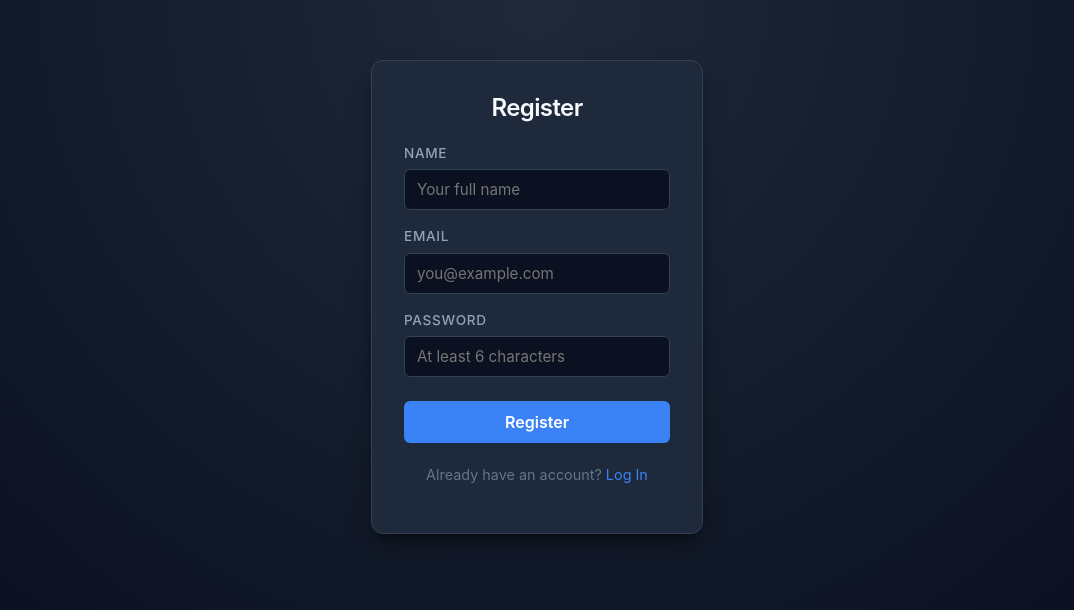
Test: RegisterPage › a successful register shows Account created. Please log in.
// Fill in valid registration details and submit
Type "Alice" into the field labelled "Name" at [537, 190], box [404, 169, 670, 210]
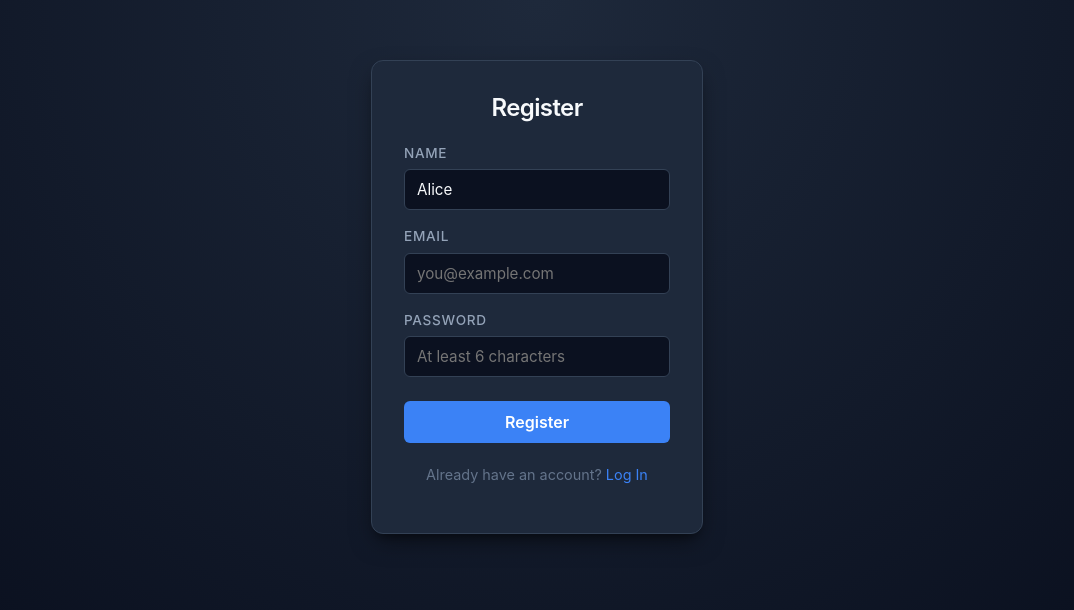
Type "alice@example.com" into the field labelled "Email" at [537, 273], box [404, 253, 670, 294]
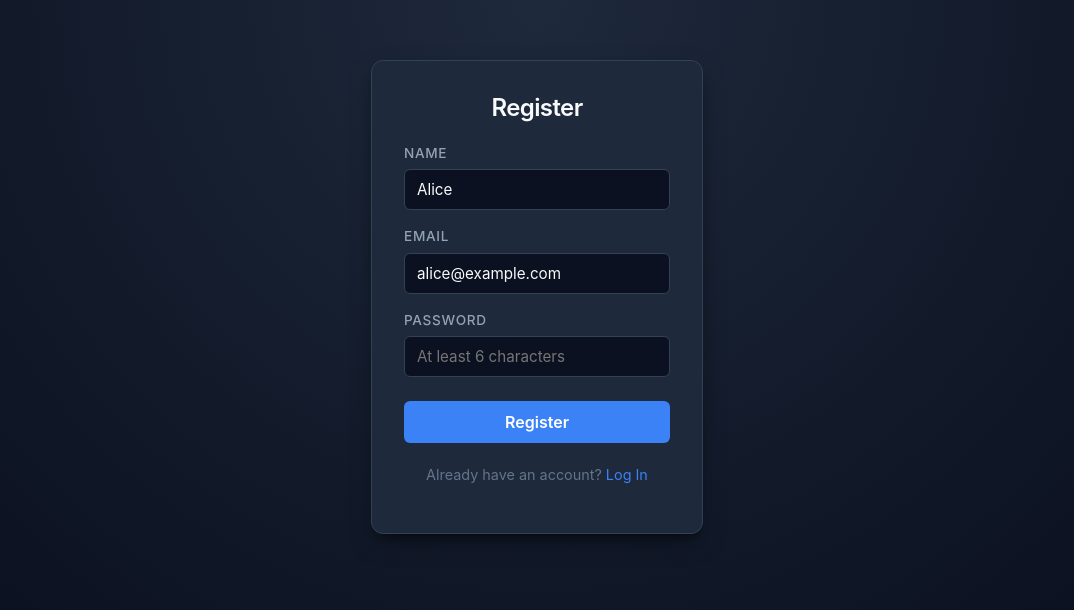
Type "secret123" into the password field labelled "Password" at [537, 357], box [404, 336, 670, 377]
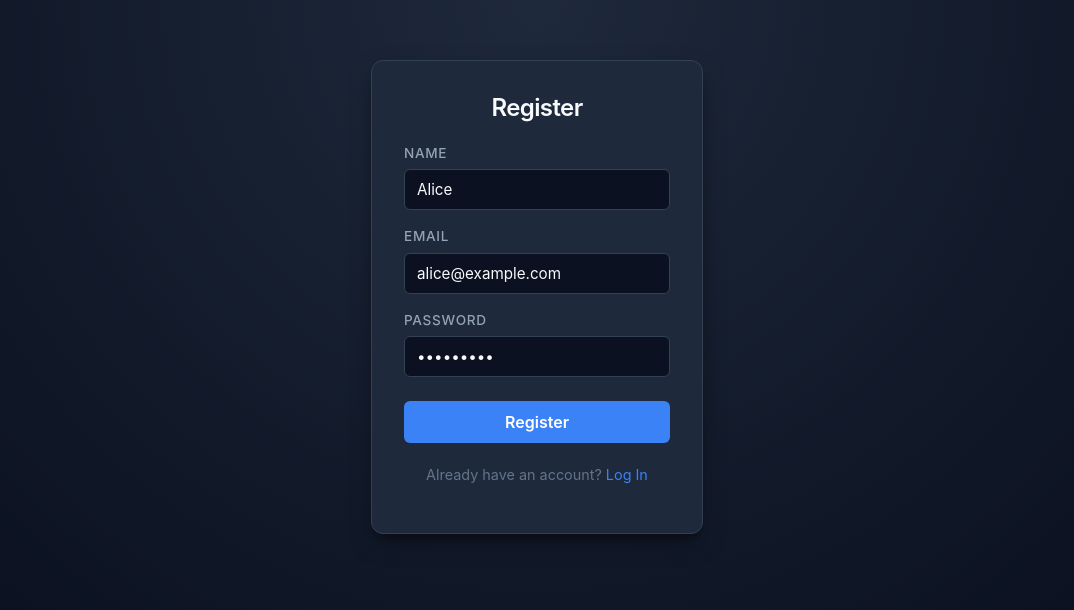
Click the button "Register" at [537, 422], box [404, 401, 670, 443]
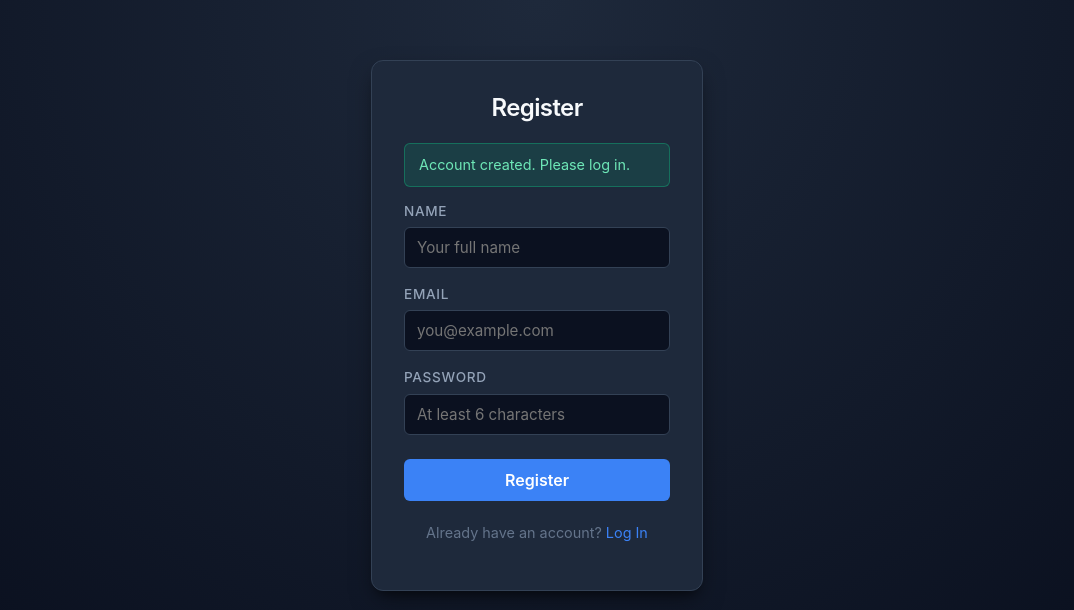
Check: the text "Account created. Please log in." is shown, box [404, 143, 670, 187]
